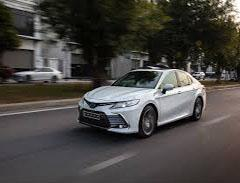car: (61, 53, 210, 151)
